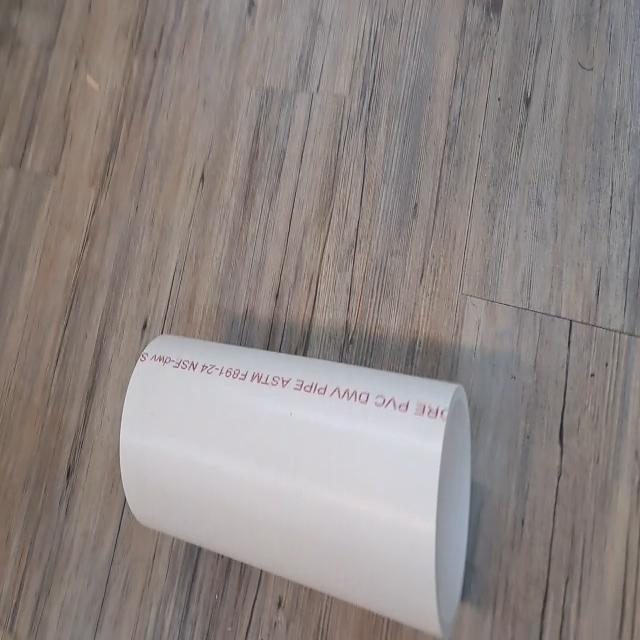CORAL: (112, 319, 475, 640)
